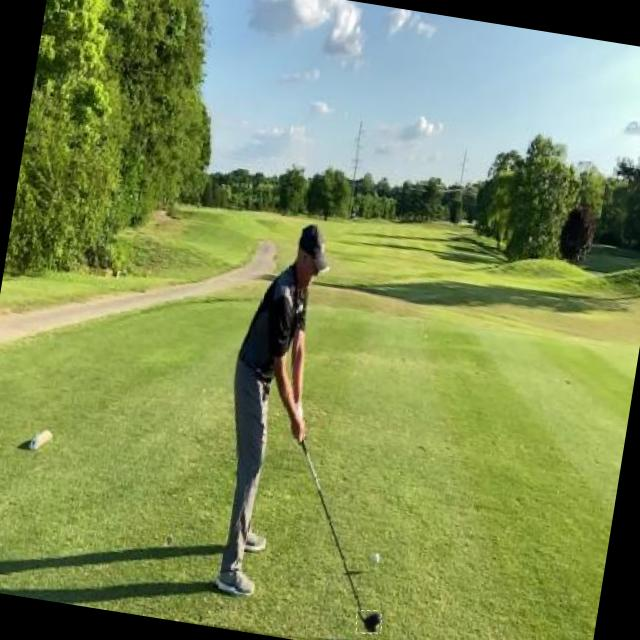club head: (355, 608, 384, 636)
